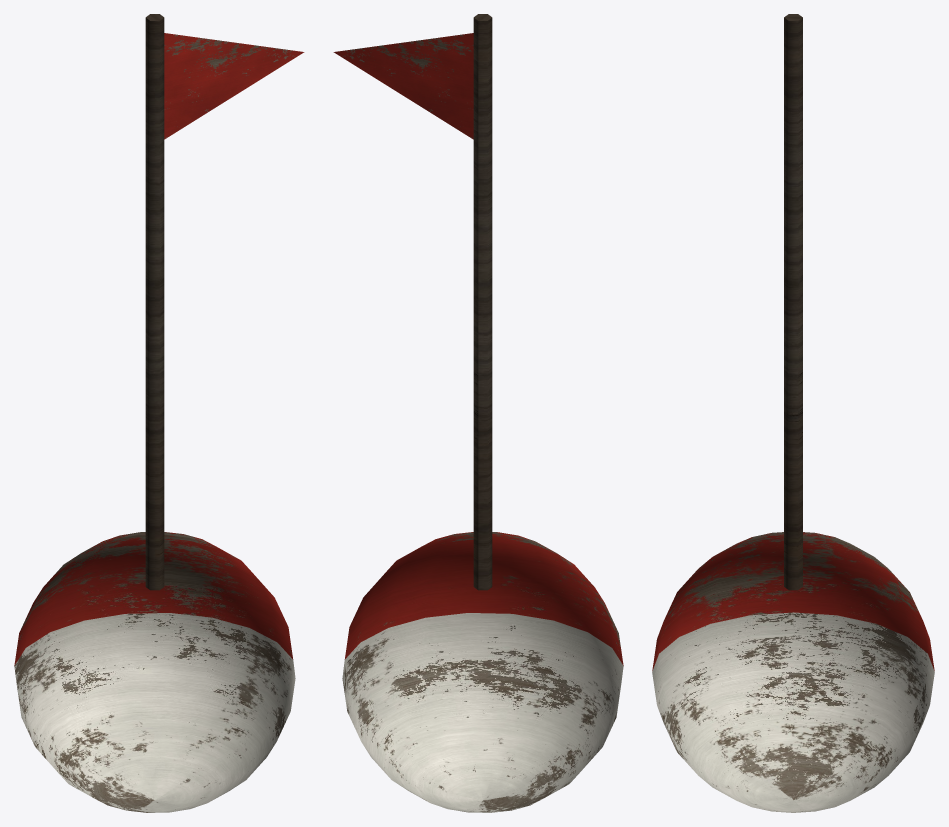
File: buoy_ball.glb
3 renders of one model, left to right at view 1: azimuth 30°, elevation 25°; view 2: azimuth 150°, elevation 25°; view 3: azimuth 270°, elevation 25°, orthographic.
Parts seen in each view (by area): view 1: buoy_ball; view 2: buoy_ball; view 3: buoy_ball.
Boxes of the visible parts, box(x1,y1,x2,y2) form: buoy_ball: box(14, 14, 304, 812); buoy_ball: box(333, 14, 623, 812); buoy_ball: box(652, 14, 934, 812).
Size of the model in its own units: 0.4001 by 1.1 by 0.36.
Materials: 3 (3 with a texture image).
